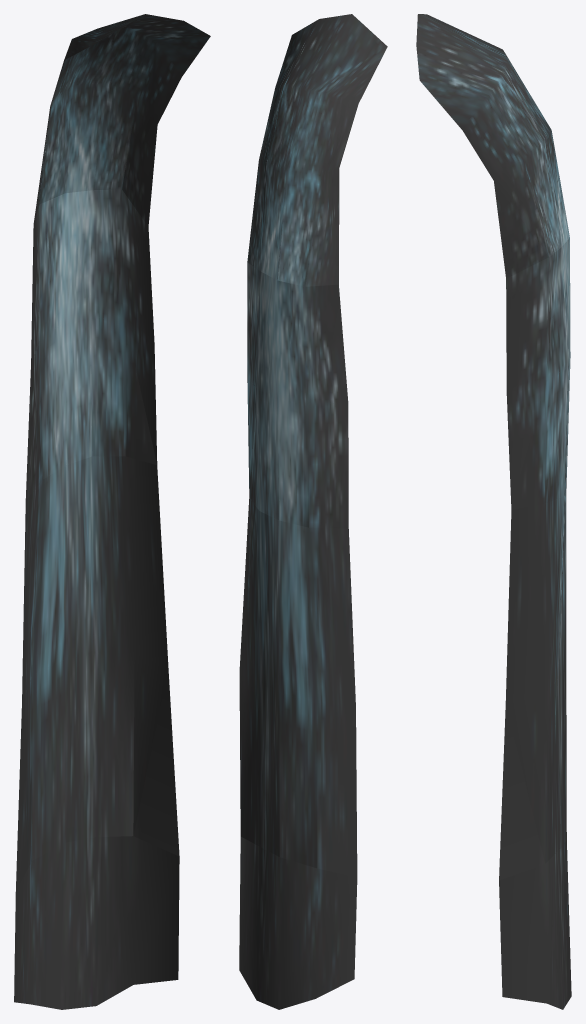
File: guanzi.FBX
The picture shows the model from 3 angles, left to right: view 1: azimuth 30°, elevation 25°; view 2: azimuth 150°, elevation 25°; view 3: azimuth 270°, elevation 25°; orthographic projection. The views are drawn at different scales.
Parts seen in each view (by area): view 1: guanzi; view 2: guanzi; view 3: guanzi.
Boxes of the visible parts, x1,y1,x2,y2 form: guanzi: (14,14,210,1009); guanzi: (239,14,387,1009); guanzi: (416,14,571,1009).
Size of the model in its own units: 12.04 by 83.13 by 11.9.
